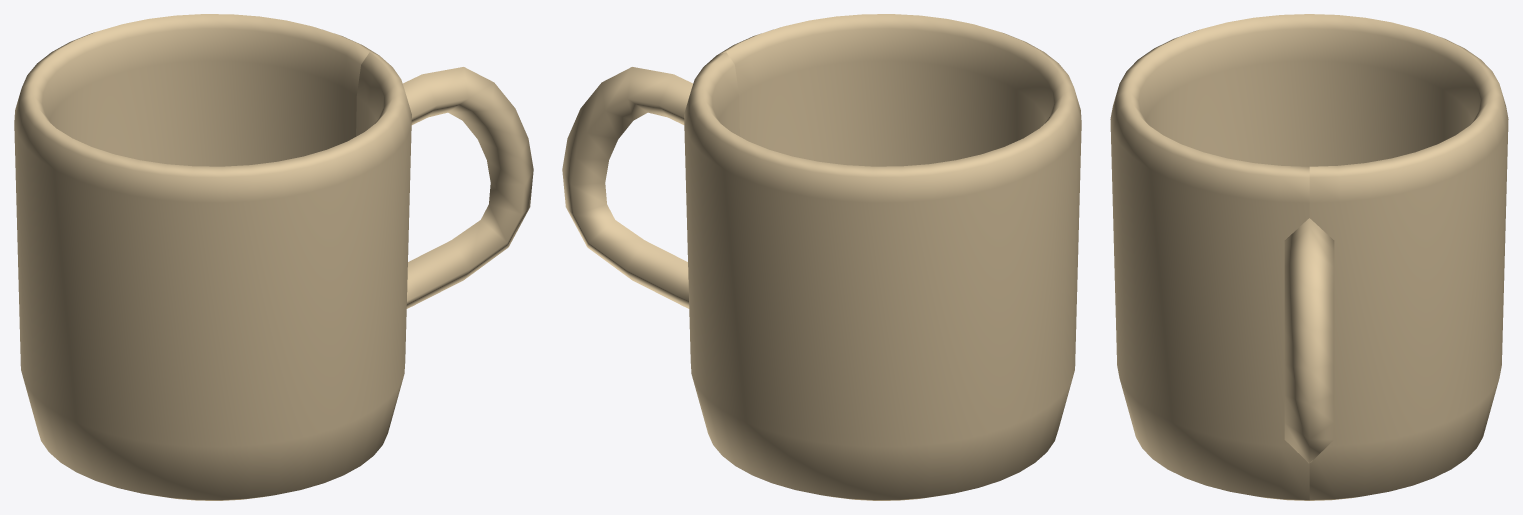
File: product-off.mug.glb
3 views of the same model, side by side, from view 1: azimuth 30°, elevation 25°; view 2: azimuth 150°, elevation 25°; view 3: azimuth 270°, elevation 25° (orthographic).
Visible parts, largest first — view 1: product-off.mug; view 2: product-off.mug; view 3: product-off.mug.
Part boxes in pixels (x1,y1,x2,y2): product-off.mug: [14, 14, 533, 500]; product-off.mug: [562, 14, 1081, 500]; product-off.mug: [1110, 14, 1508, 500].
Bounding box in the file's own units: 0.3431 × 0.235 × 0.24.
